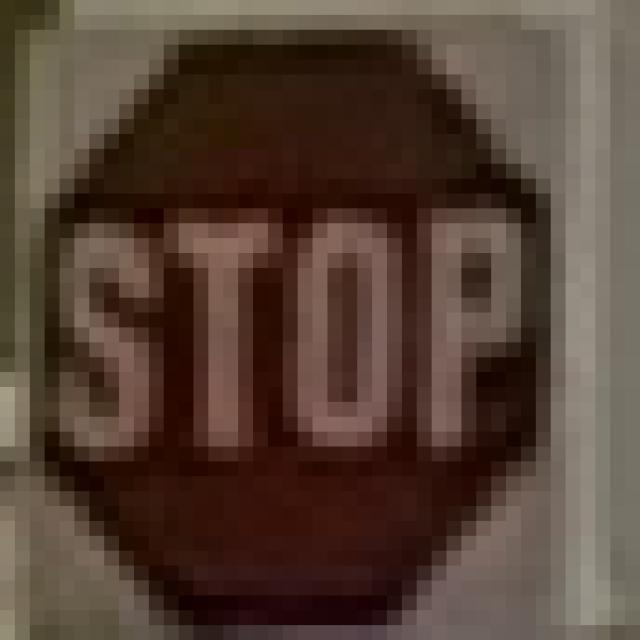mandatorystop_sign: (44, 194, 536, 462)
